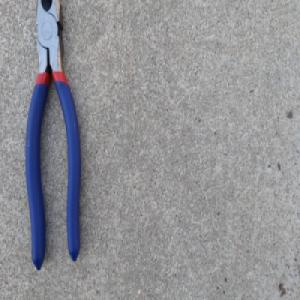Pliers: (22, 0, 82, 271)
